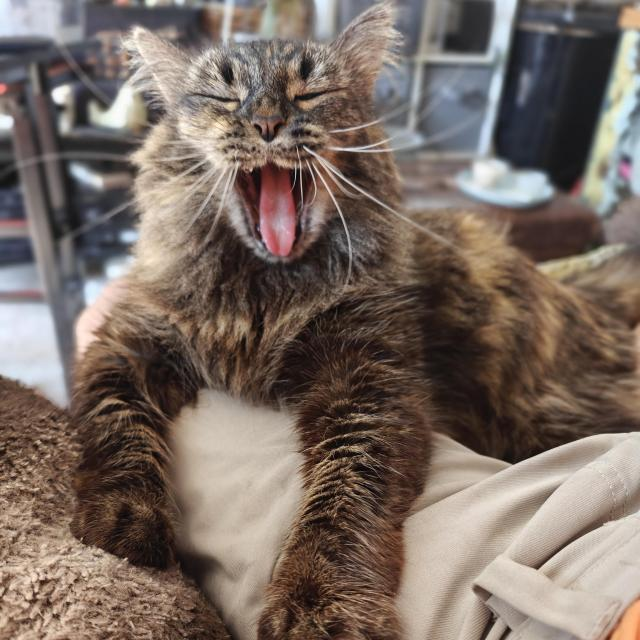domestic_long_hair_cat: (128, 0, 432, 314)
